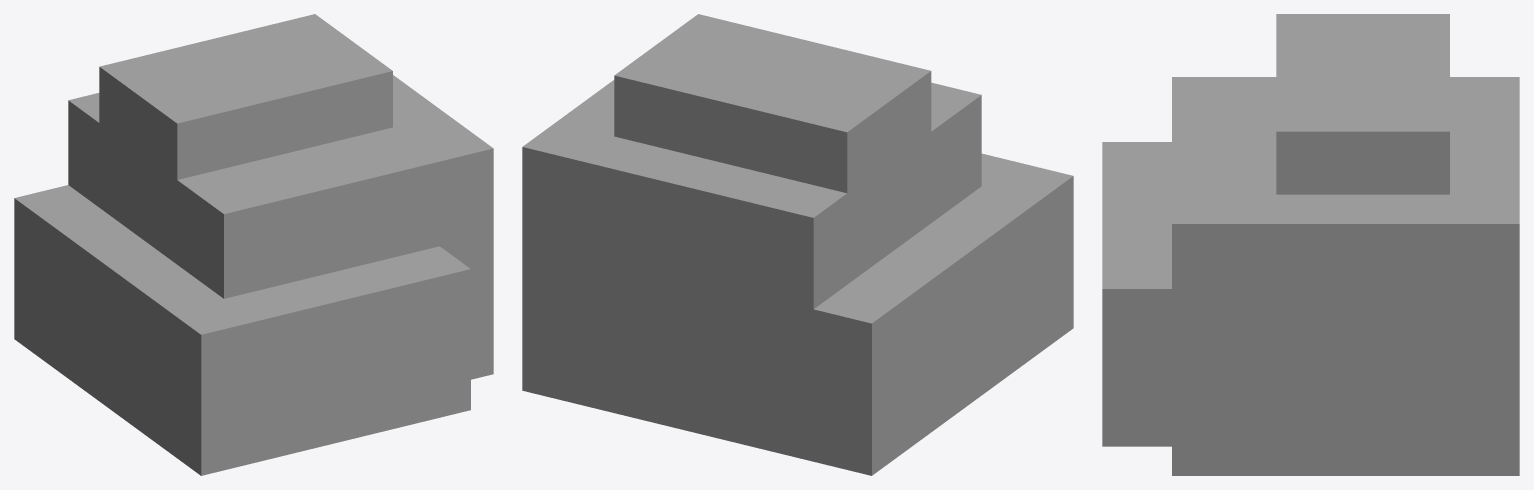
File: roady_cross_assets-14.obj
3 renders of one model, left to right at view 1: azimuth 30°, elevation 25°; view 2: azimuth 150°, elevation 25°; view 3: azimuth 270°, elevation 25°, orthographic. The views are drawn at different scales.
Size of the model in its own units: 1.2 by 1 by 1.2.
Materials: 1 (1 with a texture image).
